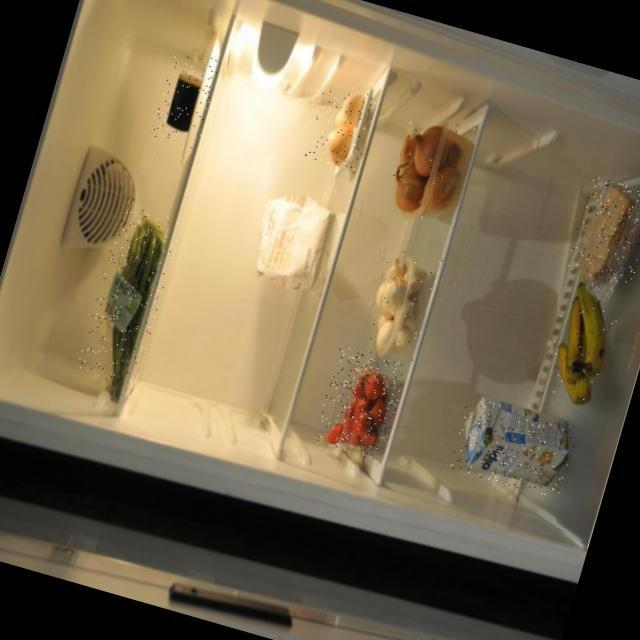Cebolla: (380, 108, 475, 225)
Champiñones: (357, 242, 443, 364)
Huevos: (304, 78, 380, 173)
Plátano: (537, 282, 624, 415)
Queso: (151, 47, 222, 149)
Tomate: (313, 345, 408, 461)
bread: (565, 174, 640, 287)
milk: (448, 393, 581, 499)
spinach: (76, 203, 183, 385)
